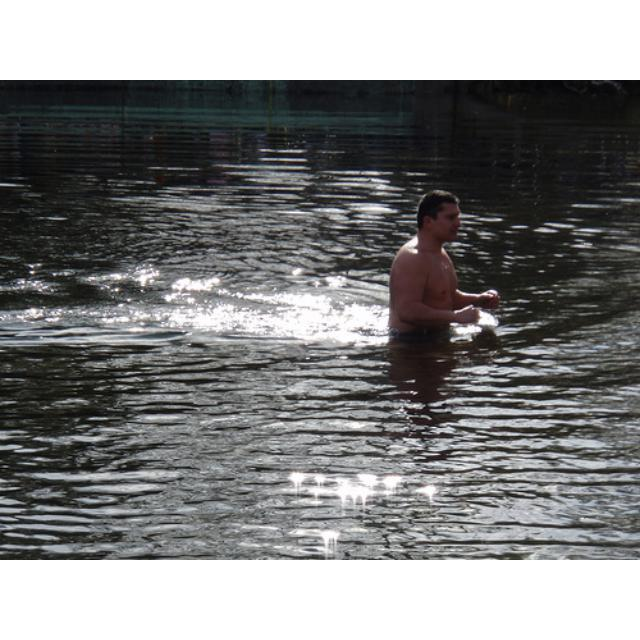human: (387, 189, 503, 340)
